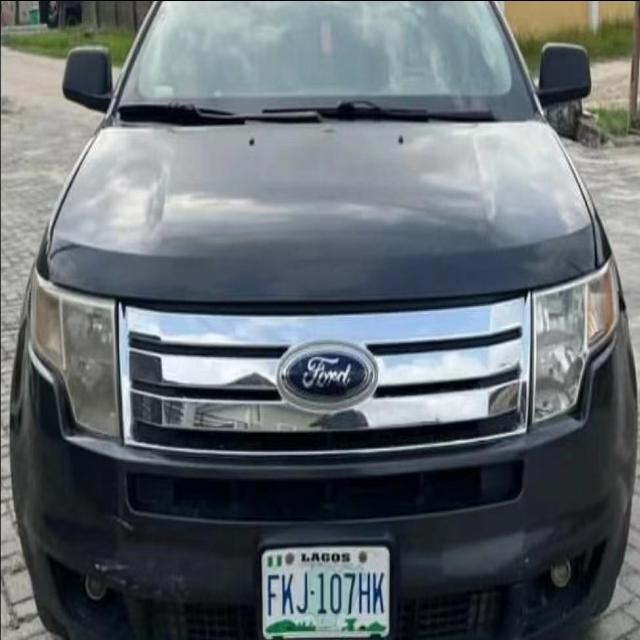Nigerian License Plate - vdataset benjamin-daria: (260, 543, 390, 640)
